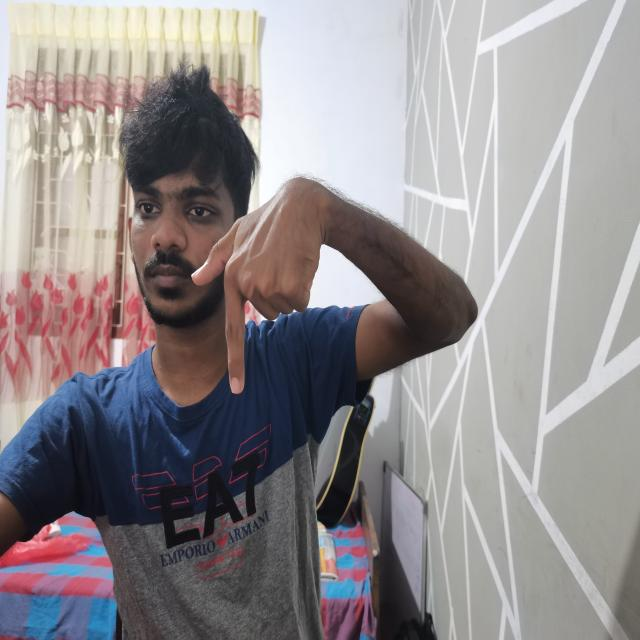Yes: (179, 166, 336, 404)
